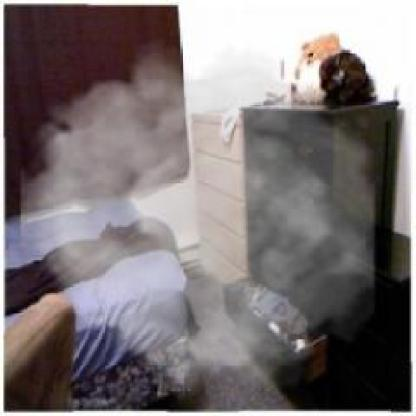Smoke: (20, 39, 375, 403)
